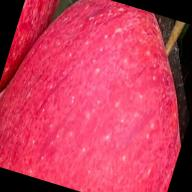Apples: (0, 0, 192, 192), (0, 0, 66, 107)
